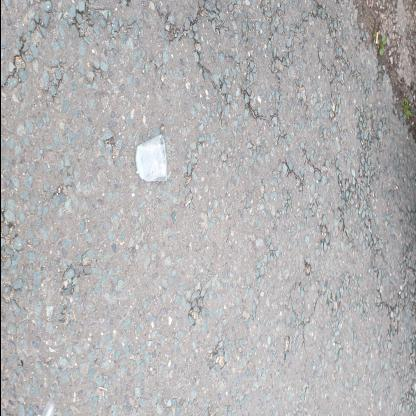plastik: (136, 135, 168, 183)
